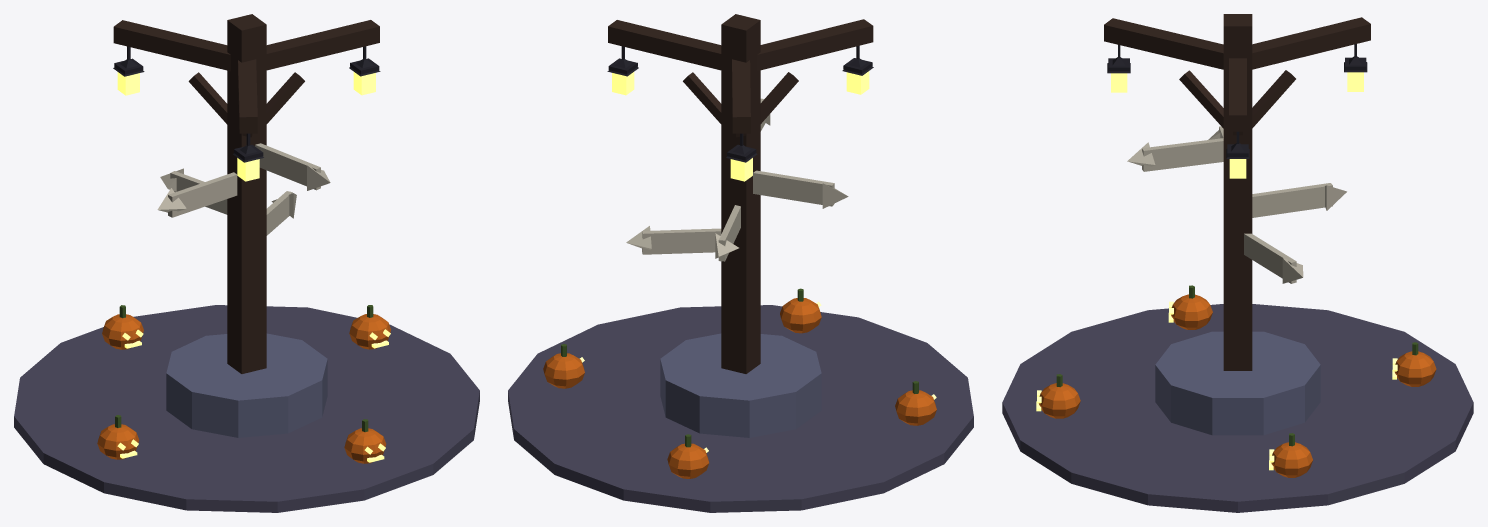
File: lb-crossroads-gallows.glb
3 views of the same model, side by side, from view 1: azimuth 30°, elevation 25°; view 2: azimuth 150°, elevation 25°; view 3: azimuth 270°, elevation 25° (orthographic).
Parts seen in each view (by area): view 1: cw_paint, cw_glow; view 2: cw_paint, cw_glow; view 3: cw_paint, cw_glow.
Part boxes in pixels (box(x1,y1,x2,y2)): cw_paint: box(14, 14, 479, 512); cw_glow: box(117, 72, 390, 462); cw_paint: box(508, 14, 973, 512); cw_glow: box(579, 71, 936, 452); cw_paint: box(1002, 14, 1473, 512); cw_glow: box(1036, 72, 1397, 470).
Size of the model in its own units: 5.7 by 5.25 by 5.7.
